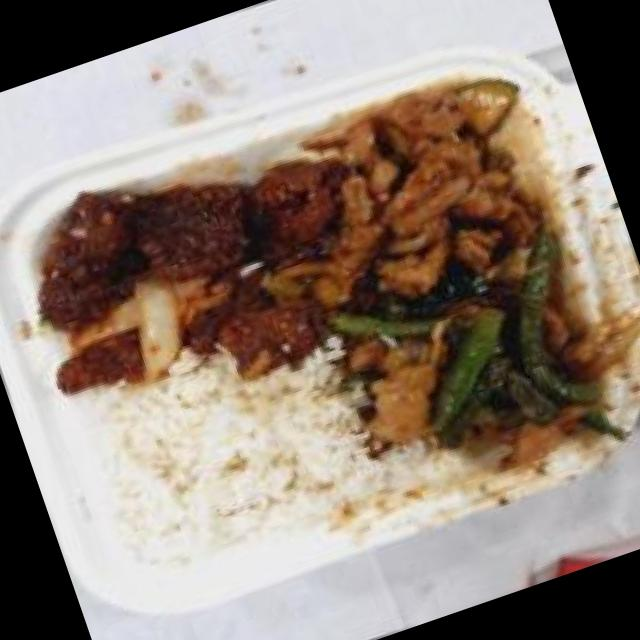Beijing Beef: (0, 120, 361, 422)
Kung Pao Chicken: (260, 51, 583, 348)
String Bean Chicken Breast: (342, 249, 624, 503)
White Steamed Rice: (81, 325, 388, 587)
